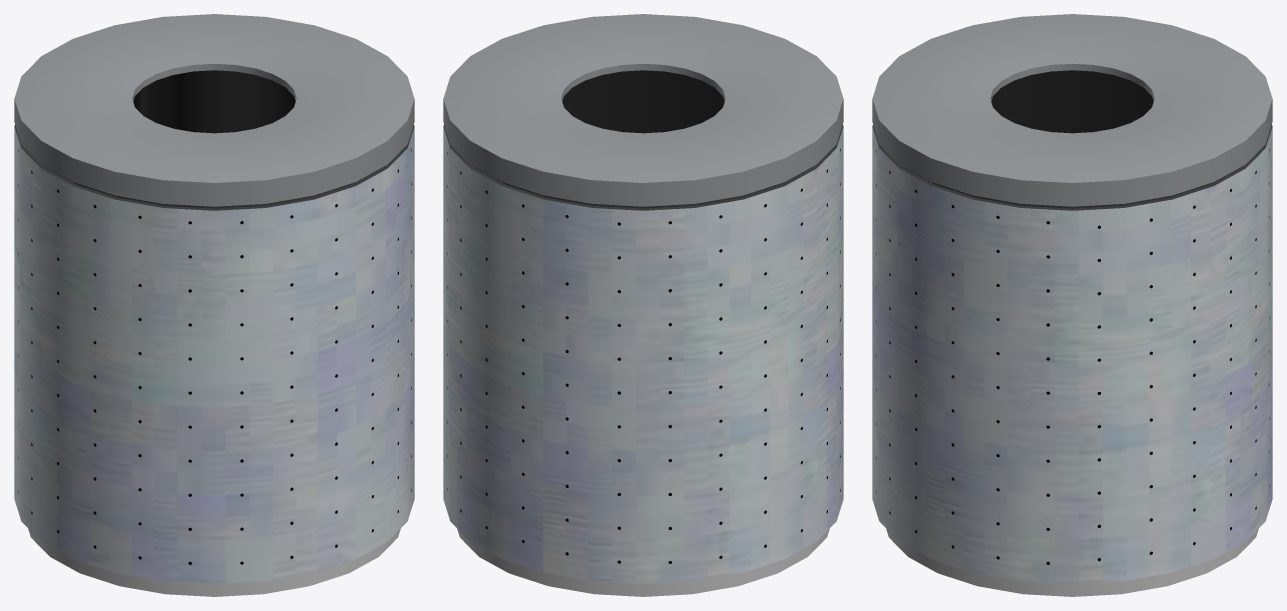
File: Trash2.obj
3 renders of one model, left to right at view 1: azimuth 30°, elevation 25°; view 2: azimuth 150°, elevation 25°; view 3: azimuth 270°, elevation 25°, orthographic.
Parts seen in each view (by area): view 1: Mesh166 Group1 Model; view 2: Mesh166 Group1 Model; view 3: Mesh166 Group1 Model.
Part boxes in pixels (left/top/right/bottom): Mesh166 Group1 Model: left=14, top=14, right=414, bottom=596; Mesh166 Group1 Model: left=443, top=14, right=843, bottom=596; Mesh166 Group1 Model: left=872, top=14, right=1272, bottom=596.
Size of the model in its own units: 27.75 by 32.2 by 27.75.
